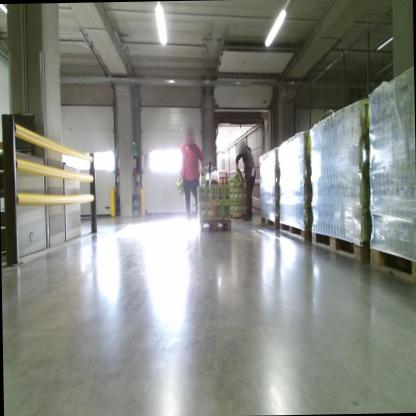pallet: (367, 240, 416, 284), (310, 228, 369, 263), (277, 218, 312, 242), (196, 219, 234, 241), (259, 210, 280, 233), (229, 211, 247, 220)
pallet_truck: (191, 154, 224, 215)
